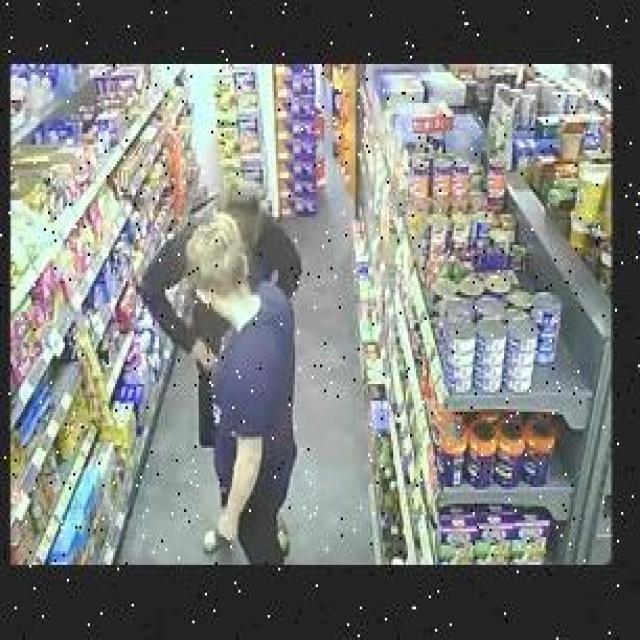Shoplifting: (128, 171, 358, 571)
